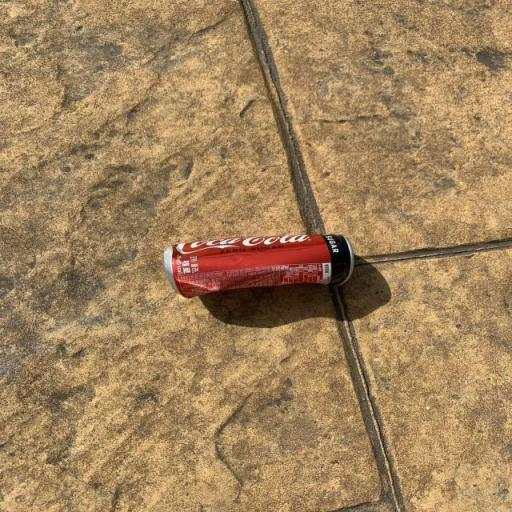metal: (146, 214, 416, 342)
